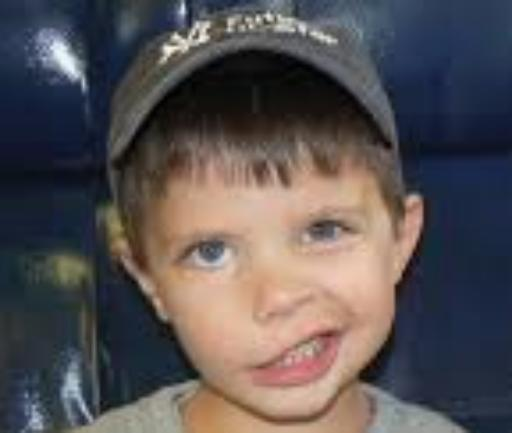left_eye: (292, 221, 360, 252)
left_lip_corner: (317, 324, 352, 345)
right_eye: (176, 240, 239, 271)
right_lip_corner: (240, 360, 270, 383)
